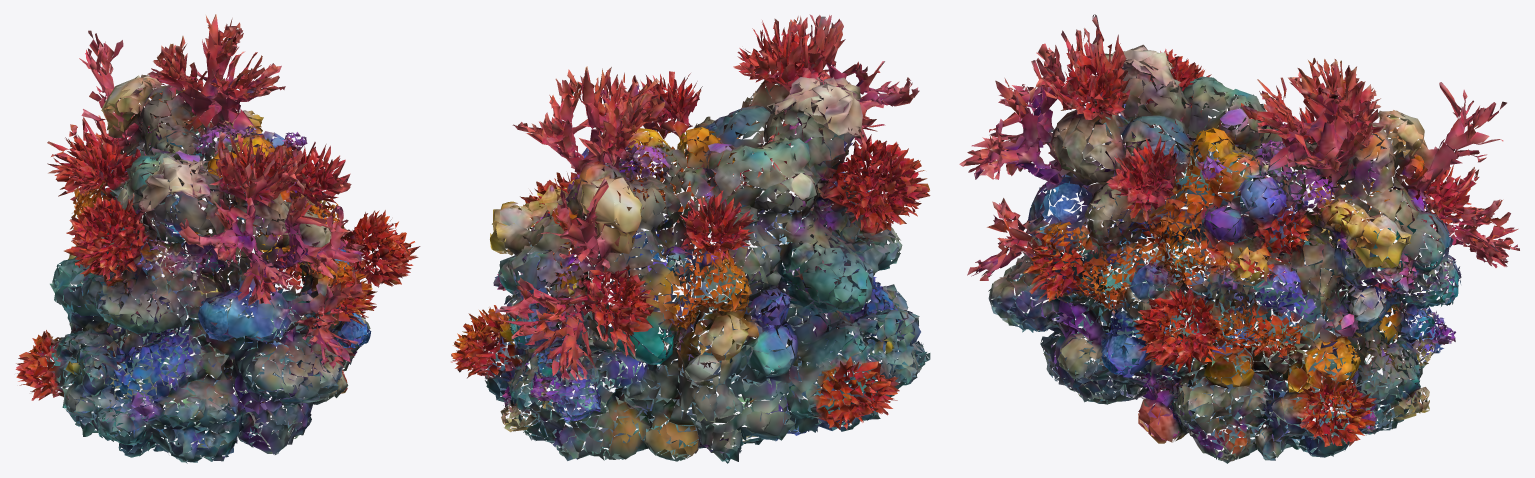
File: coral.glb
The picture shows the model from 3 angles, left to right: view 1: azimuth 30°, elevation 25°; view 2: azimuth 150°, elevation 25°; view 3: azimuth 270°, elevation 25°; orthographic projection. The views are drawn at different scales.
Parts seen in each view (by area): view 1: Object_10; view 2: Object_10; view 3: Object_10.
Part boxes in pixels (x1,y1,x2,y2): Object_10: (15, 14, 420, 463); Object_10: (451, 14, 930, 463); Object_10: (959, 14, 1519, 463).
Bounding box in the file's own units: 3.19 × 2.82 × 3.96.
1 material, 1 textured.
